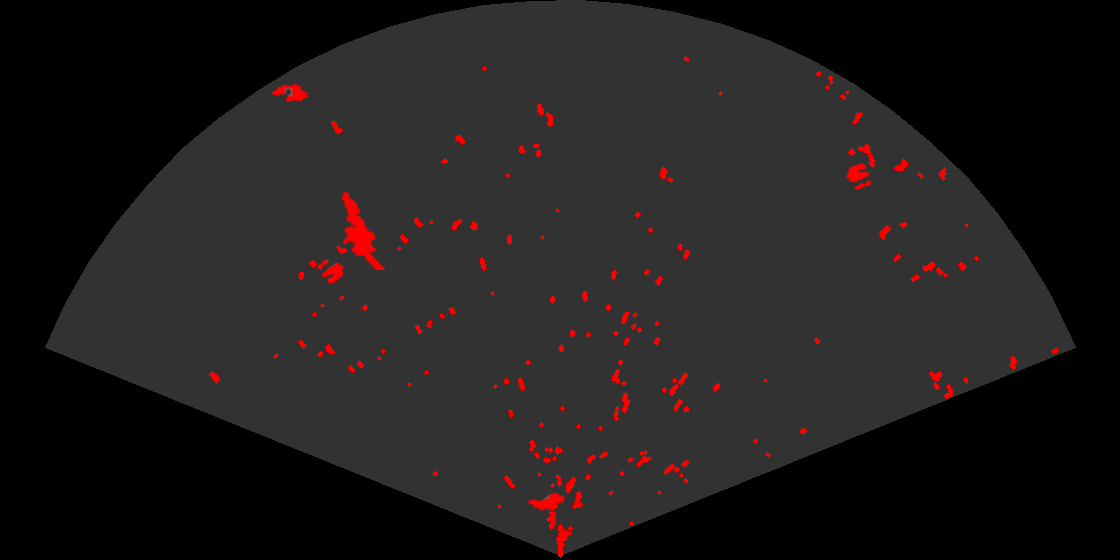AUV: (269, 82, 310, 103), (526, 491, 567, 512)
ball: (845, 161, 873, 192), (316, 257, 345, 285)
frogman: (340, 190, 388, 270)
